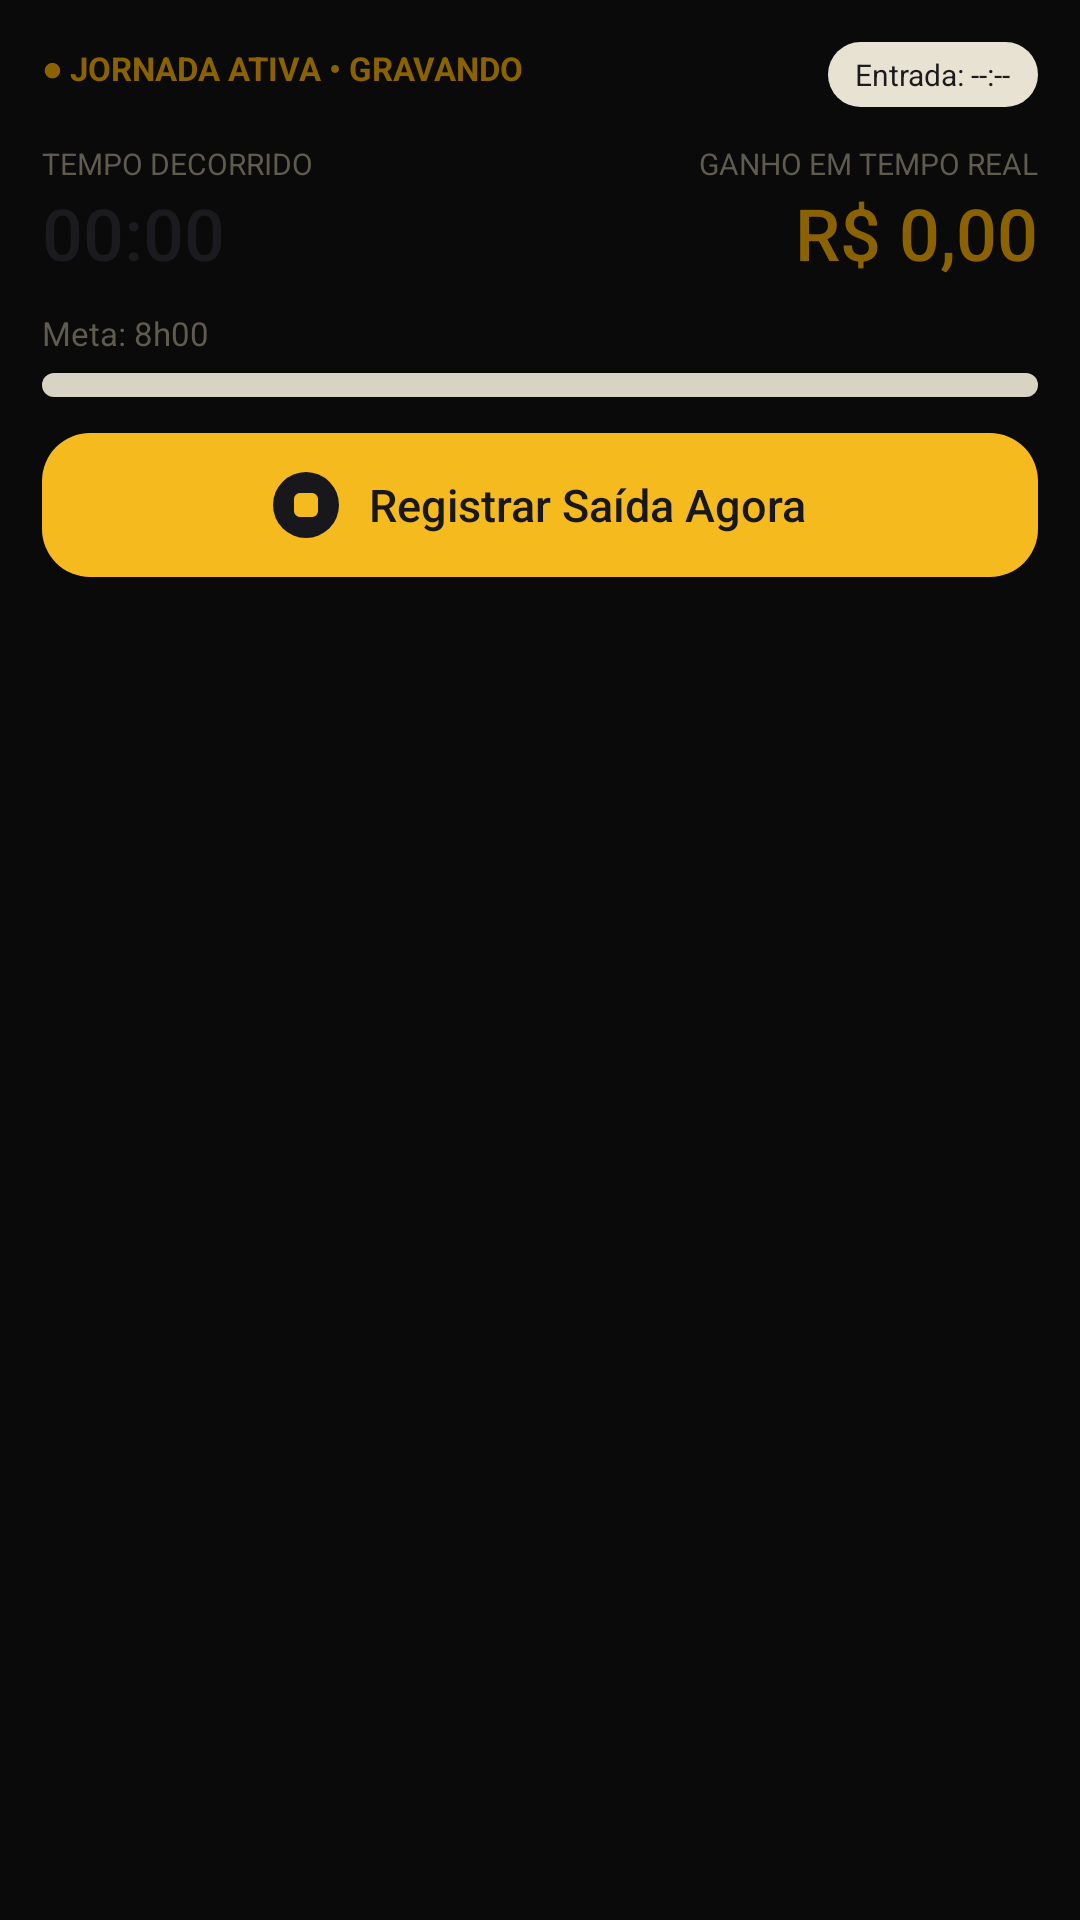

Icon bounding boxes for this 1080w x 1920h phone screenshot, format (x1, y1, x2, y2):
notif stop dot: (273, 472, 339, 538)
